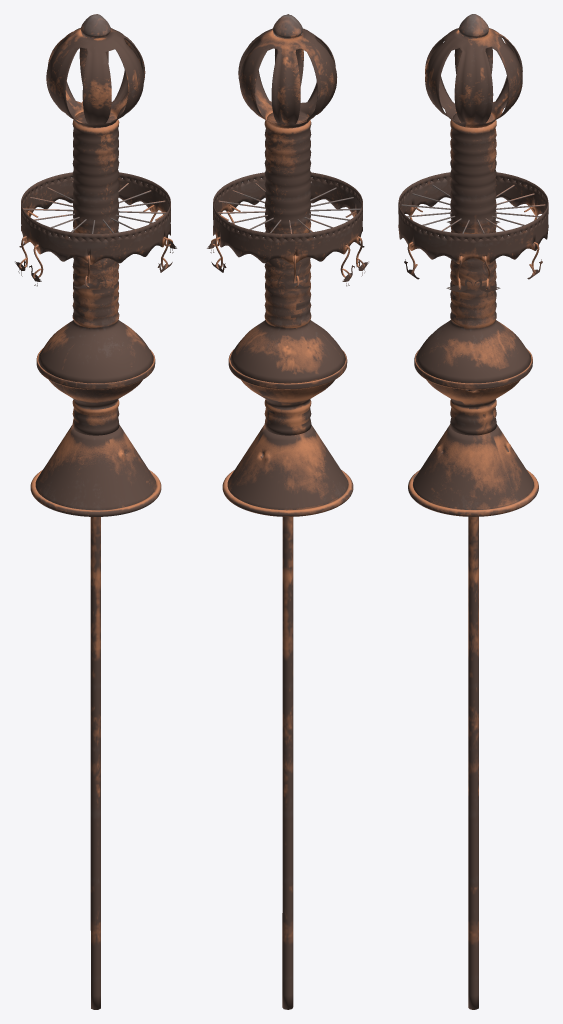
Rendered from Asen 4.fbx.
The picture shows the model from 3 angles, left to right: view 1: azimuth 30°, elevation 25°; view 2: azimuth 150°, elevation 25°; view 3: azimuth 270°, elevation 25°; orthographic projection.
Parts seen in each view (by area): view 1: Retopo_Cylinder.006, Circle.006, Retopo_Cylinder.005, Retopo_Cylinder.004, Retopo_Cylinder, Circle.005; view 2: Retopo_Cylinder.006, Circle.006, Retopo_Cylinder.005, Retopo_Cylinder.004, Retopo_Cylinder, Circle.005; view 3: Retopo_Cylinder.006, Circle.006, Retopo_Cylinder.005, Retopo_Cylinder.004, Retopo_Cylinder, Circle.005.
Boxes of the visible parts, x1,y1,x2,y2 form: Retopo_Cylinder.006: (35,111,156,510); Circle.006: (21,172,170,264); Retopo_Cylinder.005: (46,28,145,127); Retopo_Cylinder.004: (90,517,100,1009); Retopo_Cylinder: (30,14,161,516); Circle.005: (15,181,176,288); Retopo_Cylinder.006: (227,111,348,510); Circle.006: (213,172,362,264); Retopo_Cylinder.005: (238,28,337,128); Retopo_Cylinder.004: (282,38,293,1009); Retopo_Cylinder: (222,14,353,516); Circle.005: (207,181,368,288); Retopo_Cylinder.006: (413,113,533,509); Circle.006: (398,172,548,264); Retopo_Cylinder.005: (425,28,522,127); Retopo_Cylinder.004: (468,389,478,1009); Retopo_Cylinder: (408,14,538,516); Circle.005: (401,185,545,297).
Bounding box in the file's own units: 324 × 2186 × 300.
Materials: 1 (1 with a texture image).
